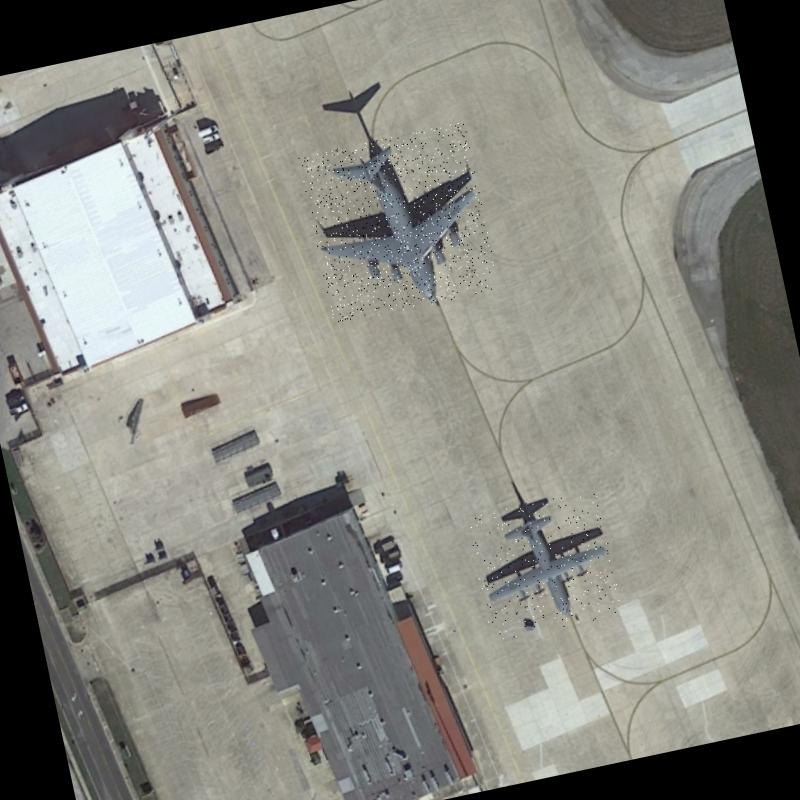A2: (466, 489, 624, 642)
A3: (298, 121, 500, 326)
